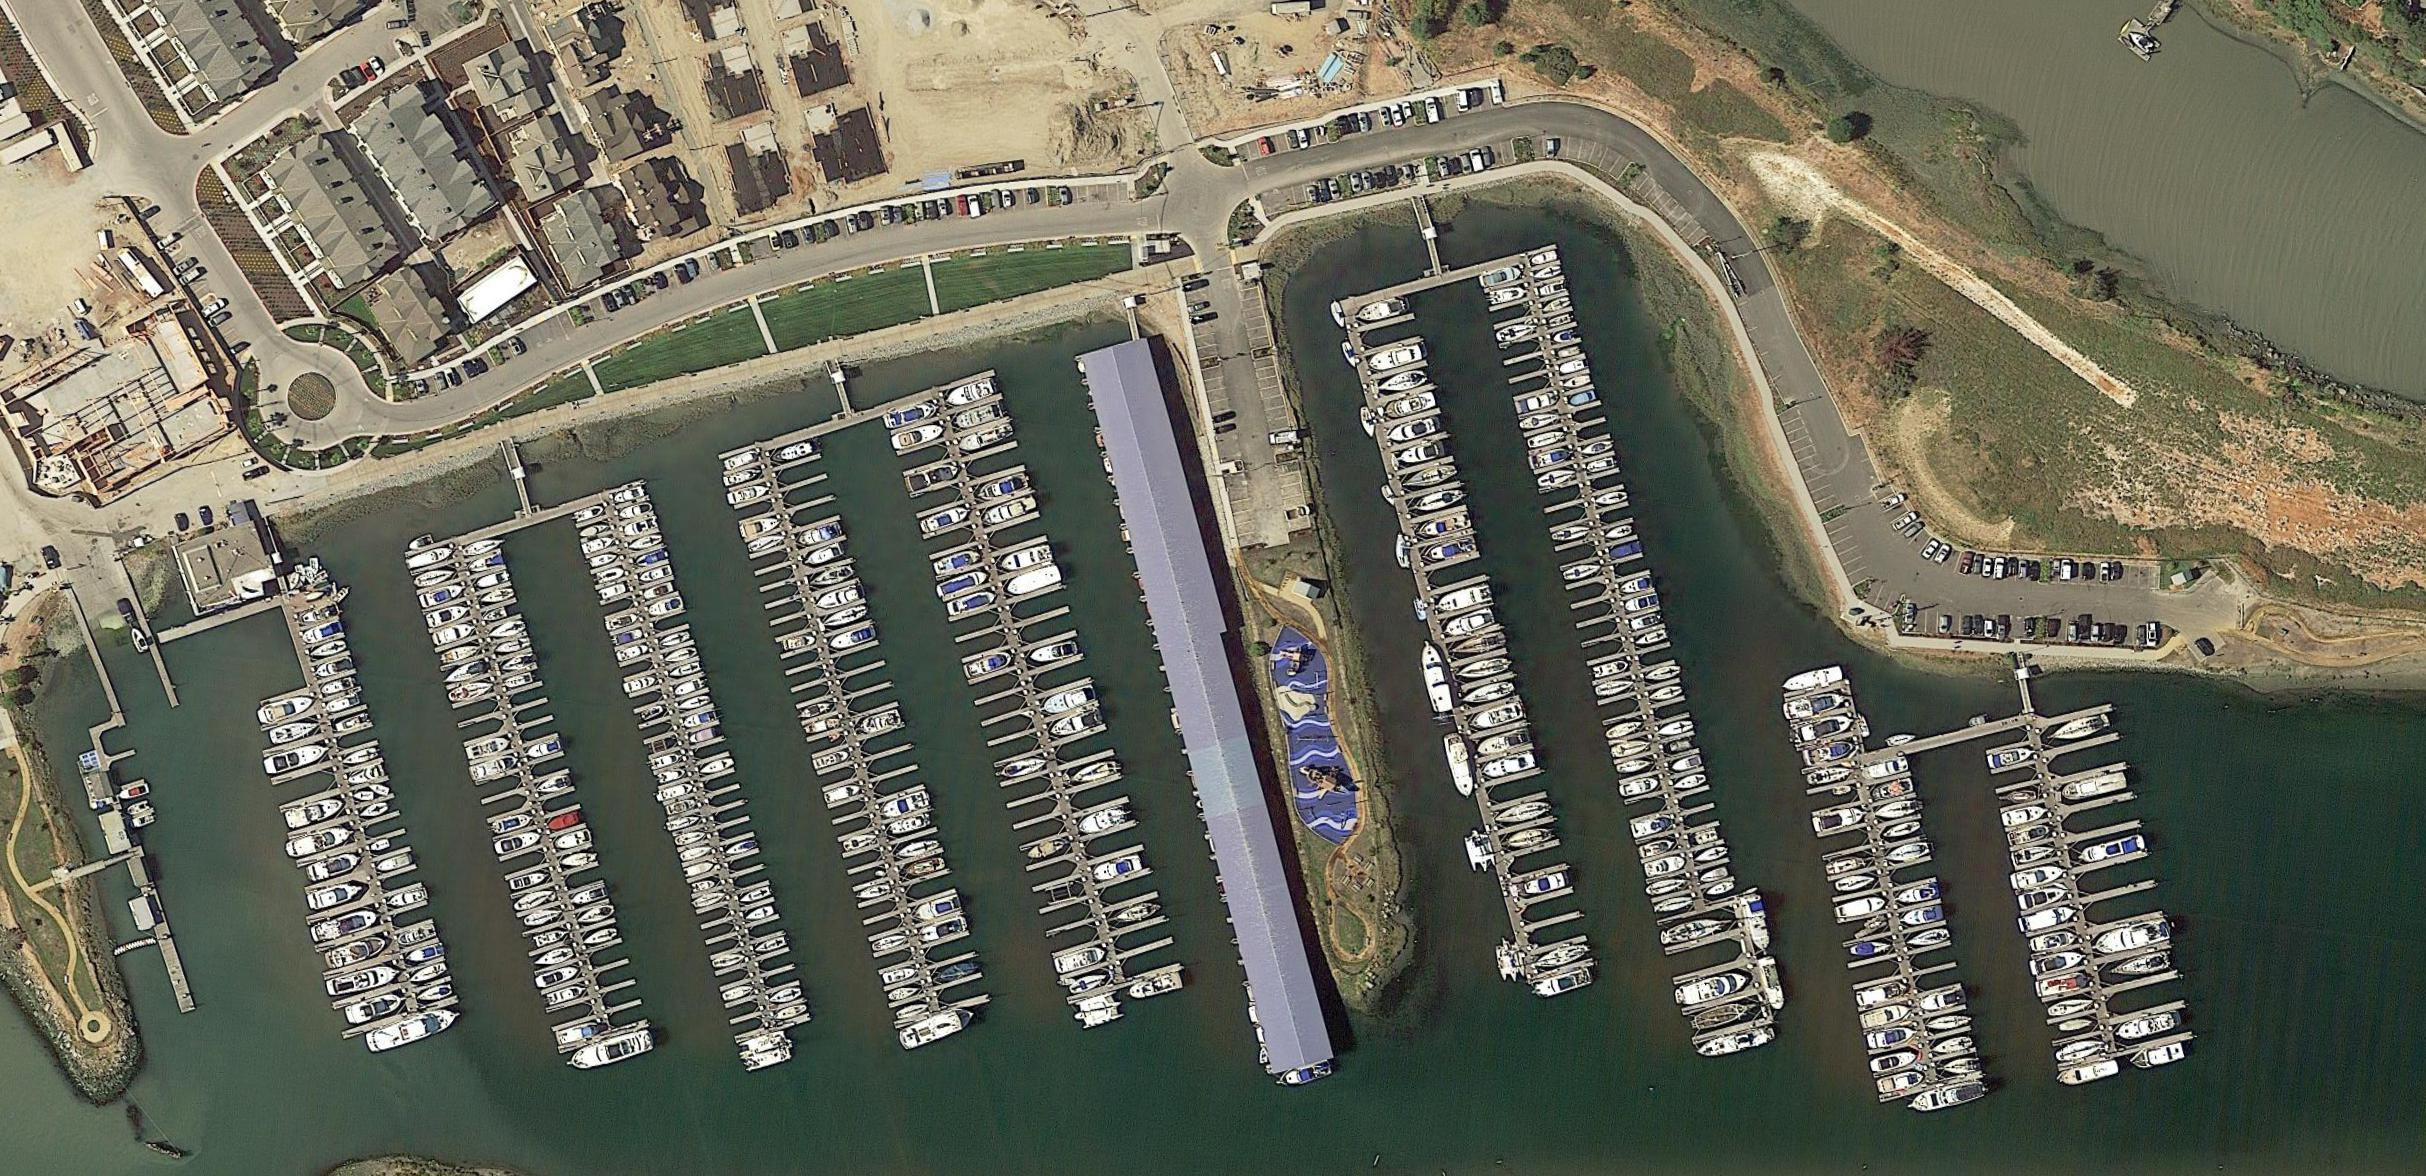harbor: (1477, 241, 1775, 1052), (885, 370, 1185, 1008), (1340, 280, 1598, 988), (716, 423, 995, 1034), (570, 477, 814, 1049), (404, 524, 654, 1059), (228, 589, 461, 1041), (1783, 669, 1985, 1107), (1979, 691, 2196, 1074), (74, 711, 215, 1021)
ship: (364, 1003, 463, 1058), (568, 1026, 656, 1074), (897, 1004, 980, 1052), (2093, 917, 2173, 958), (1904, 1078, 1987, 1117), (1696, 1023, 1778, 1062), (1416, 637, 1456, 715), (1679, 968, 1751, 1009), (324, 963, 402, 999), (284, 823, 357, 861), (1689, 997, 1761, 1033), (309, 908, 381, 944), (1440, 731, 1478, 799), (323, 933, 390, 971), (262, 741, 332, 777), (1665, 912, 1734, 948), (738, 1029, 793, 1074), (1072, 988, 1127, 1033), (2059, 770, 2128, 804), (2114, 1008, 2183, 1042), (1739, 891, 1775, 955), (2076, 833, 2145, 865), (1782, 689, 1848, 722), (344, 991, 408, 1025), (284, 795, 346, 830), (256, 691, 318, 726), (1532, 967, 1593, 1002), (1039, 683, 1098, 718), (1274, 1057, 1333, 1092), (2058, 1057, 2122, 1089), (2108, 950, 2172, 982), (304, 849, 364, 883), (1792, 712, 1855, 744), (955, 421, 1016, 454), (981, 494, 1038, 529), (1418, 534, 1478, 567), (1492, 798, 1553, 830), (2018, 903, 2079, 935), (1779, 665, 1844, 695), (882, 399, 941, 432), (306, 879, 365, 912), (1531, 941, 1589, 974), (903, 461, 962, 493), (1414, 511, 1473, 543), (942, 376, 999, 409), (1755, 957, 1788, 1014), (1005, 564, 1062, 597), (1047, 708, 1104, 741), (890, 421, 948, 453), (1468, 700, 1524, 733), (998, 543, 1054, 576), (1353, 294, 1412, 325), (1475, 727, 1532, 759), (1437, 583, 1492, 616), (1493, 936, 1529, 986), (1449, 630, 1507, 661), (2010, 861, 2068, 892), (935, 567, 991, 599), (1481, 749, 1537, 781), (1053, 943, 1109, 975), (1400, 461, 1459, 491), (1367, 342, 1424, 373), (1460, 679, 1518, 709), (2046, 714, 2104, 744), (268, 716, 322, 748), (1444, 606, 1496, 639), (1076, 805, 1128, 838), (1411, 485, 1468, 515), (2035, 969, 2092, 999), (918, 503, 973, 534), (1387, 414, 1442, 445), (976, 472, 1029, 504), (962, 649, 1015, 681), (2030, 948, 2088, 977), (910, 893, 963, 924), (1454, 654, 1510, 683), (1812, 804, 1868, 833), (2130, 1042, 2186, 1071), (878, 790, 930, 821), (917, 914, 969, 945), (1377, 367, 1429, 398), (1464, 827, 1498, 874), (1128, 972, 1183, 1001), (1854, 979, 1909, 1008), (945, 588, 998, 618), (1111, 897, 1164, 927), (815, 582, 866, 613), (1092, 853, 1143, 884), (1383, 391, 1437, 420), (1802, 739, 1856, 768), (2054, 1035, 2108, 1064), (1833, 893, 1888, 921), (1860, 1001, 1913, 1030), (955, 401, 1004, 432), (1866, 1023, 1919, 1051), (932, 547, 983, 576), (999, 753, 1050, 782), (1068, 760, 1120, 788), (1029, 639, 1079, 668), (470, 752, 520, 781), (447, 676, 495, 706), (2018, 883, 2069, 911), (1521, 871, 1570, 900), (419, 581, 468, 610), (1396, 439, 1446, 467), (1873, 796, 1923, 824), (1919, 986, 1967, 1015), (774, 438, 824, 465), (554, 1019, 604, 1046), (494, 829, 544, 856), (2030, 928, 2080, 955), (829, 624, 877, 652), (822, 603, 869, 631), (441, 657, 488, 685), (425, 602, 472, 630), (1505, 825, 1553, 852), (406, 544, 454, 571), (2001, 802, 2049, 829), (797, 520, 843, 548), (535, 963, 581, 991), (295, 600, 341, 628), (1883, 840, 1932, 866), (1987, 744, 2036, 770), (808, 563, 855, 590), (465, 735, 512, 762), (1527, 444, 1574, 471), (1631, 812, 1678, 839), (1869, 1049, 1919, 1074), (2007, 821, 2053, 848), (1861, 756, 1910, 781), (2012, 841, 2057, 868), (726, 481, 772, 507), (431, 621, 477, 647), (1899, 903, 1945, 929), (903, 854, 947, 881), (803, 541, 845, 569), (1876, 1070, 1925, 1094), (2047, 995, 2096, 1019), (1924, 1011, 1971, 1036), (512, 887, 557, 913), (1479, 264, 1524, 290), (859, 709, 902, 736), (740, 513, 783, 540), (301, 620, 344, 647), (461, 535, 507, 560), (1805, 764, 1855, 787), (936, 959, 980, 985), (1515, 390, 1559, 416), (1495, 319, 1539, 345), (440, 640, 483, 666), (1871, 777, 1914, 803), (1644, 854, 1687, 880), (1894, 883, 1940, 907), (1906, 926, 1950, 951), (1068, 971, 1110, 997), (533, 944, 575, 970), (414, 565, 456, 591), (492, 811, 535, 836), (1645, 875, 1688, 900), (1518, 409, 1561, 434), (575, 902, 616, 928), (1552, 522, 1593, 548), (1930, 1035, 1974, 1059), (1535, 465, 1577, 490), (1619, 775, 1661, 800), (1610, 736, 1651, 761), (896, 837, 940, 860), (888, 813, 932, 836), (386, 887, 428, 911), (546, 983, 588, 1007), (1940, 1055, 1982, 1079), (1026, 837, 1066, 862), (487, 617, 527, 642), (1834, 871, 1877, 894), (404, 942, 445, 966), (748, 531, 787, 556), (346, 763, 385, 788), (1652, 893, 1694, 916), (522, 905, 564, 928), (1825, 854, 1867, 877), (397, 923, 437, 947), (1562, 560, 1602, 584), (2123, 28, 2157, 56), (466, 551, 504, 576), (315, 656, 354, 680), (655, 781, 697, 803), (408, 962, 448, 985), (308, 638, 348, 661), (723, 448, 761, 472), (571, 884, 609, 908), (559, 848, 597, 872), (554, 828, 592, 852), (647, 595, 685, 619), (526, 737, 564, 761), (1849, 938, 1892, 959), (722, 466, 763, 488), (1882, 819, 1923, 841), (1997, 786, 2038, 808), (824, 781, 863, 804), (1605, 718, 1644, 741), (1595, 676, 1634, 699), (842, 830, 879, 854), (324, 691, 361, 715), (509, 870, 549, 892), (813, 748, 851, 771), (882, 964, 920, 987), (581, 925, 619, 948), (494, 634, 532, 657), (1527, 428, 1565, 451), (1639, 837, 1677, 860), (1592, 658, 1630, 681), (1490, 284, 1529, 306), (535, 774, 572, 797), (375, 852, 413, 874), (1657, 717, 1695, 739), (1623, 592, 1661, 614), (782, 631, 818, 654), (501, 651, 537, 674), (804, 715, 843, 736), (871, 932, 910, 953), (416, 983, 453, 1005), (480, 585, 515, 608), (341, 747, 379, 768), (1691, 845, 1729, 866), (622, 516, 658, 538), (622, 674, 658, 696), (628, 532, 664, 554), (1392, 533, 1413, 570), (1645, 663, 1682, 684), (767, 985, 802, 1007), (335, 712, 370, 734), (546, 811, 581, 833), (618, 500, 653, 522), (1618, 575, 1653, 597), (721, 982, 757, 1003), (856, 882, 892, 903), (604, 611, 640, 632), (662, 645, 698, 666), (699, 756, 735, 777), (1648, 683, 1684, 704), (1671, 772, 1707, 793), (1633, 627, 1669, 648), (476, 569, 510, 591), (1609, 540, 1643, 562), (773, 1002, 808, 1023), (534, 927, 569, 948), (320, 676, 355, 697), (581, 535, 616, 556), (1580, 438, 1615, 459), (635, 548, 668, 570), (692, 890, 728, 910), (895, 1001, 931, 1021), (887, 984, 923, 1004), (682, 709, 718, 729), (1616, 756, 1652, 776), (679, 843, 713, 864), (639, 563, 673, 584), (668, 660, 702, 681), (678, 693, 712, 714), (1595, 488, 1629, 509), (128, 624, 151, 655), (358, 801, 391, 822), (612, 485, 645, 506), (573, 503, 606, 524), (665, 813, 701, 832), (798, 701, 832, 721), (724, 838, 758, 858), (738, 886, 772, 906), (712, 951, 746, 971), (1358, 405, 1378, 439), (616, 643, 650, 663), (650, 751, 684, 771), (1328, 299, 1349, 331), (642, 581, 674, 602), (118, 782, 151, 802), (665, 797, 698, 817), (578, 520, 611, 540), (1531, 263, 1563, 283), (1670, 754, 1702, 774), (683, 860, 716, 879), (754, 936, 787, 955), (674, 829, 707, 848), (659, 630, 692, 649), (588, 550, 619, 570), (673, 678, 704, 698), (1603, 523, 1634, 543), (1585, 455, 1616, 475), (2058, 1016, 2094, 1033), (613, 627, 645, 646), (1704, 879, 1736, 898), (596, 565, 626, 585), (1885, 731, 1918, 749), (1698, 867, 1729, 886), (1558, 357, 1589, 376), (1541, 296, 1572, 315), (658, 767, 688, 786), (504, 671, 534, 690), (1562, 373, 1592, 392), (1691, 826, 1719, 846), (1379, 483, 1401, 508), (745, 905, 775, 923), (1340, 341, 1358, 371), (600, 581, 628, 600), (130, 810, 156, 830), (688, 727, 716, 745), (637, 704, 665, 722), (1538, 280, 1566, 298), (1530, 250, 1559, 267), (1547, 312, 1574, 330), (1552, 328, 1579, 346), (482, 606, 508, 624), (408, 534, 434, 552), (364, 781, 391, 798), (1569, 390, 1596, 407), (368, 836, 393, 854), (1412, 598, 1430, 623), (1854, 715, 1872, 738), (126, 800, 150, 817), (1558, 344, 1582, 360), (311, 567, 331, 586), (333, 584, 350, 603), (692, 879, 715, 893), (286, 571, 301, 592), (293, 563, 308, 584), (352, 790, 376, 802), (1969, 714, 1989, 728), (1830, 783, 1852, 795), (310, 556, 319, 575)
